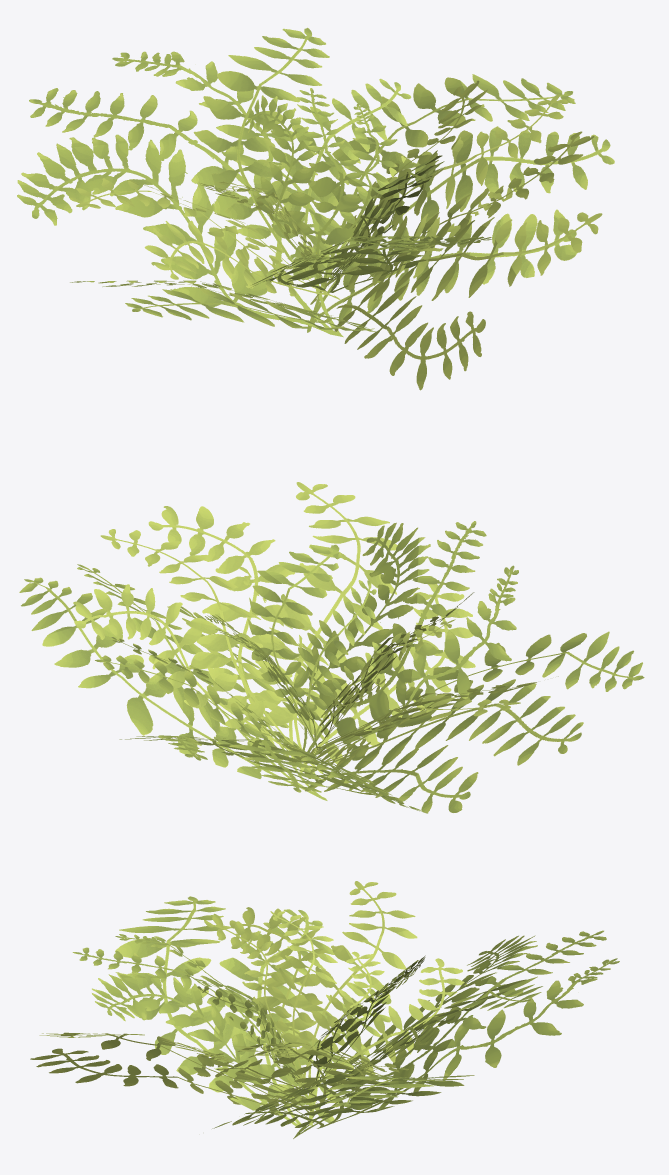
Rendered from oldBushCleanUp.fbx.
3 views of the same model, one above another, from view 1: azimuth 30°, elevation 25°; view 2: azimuth 150°, elevation 25°; view 3: azimuth 270°, elevation 25° (orthographic). The views are drawn at different scales.
Parts seen in each view (by area): view 1: Young Shrub; view 2: Young Shrub; view 3: Young Shrub.
Part boxes in pixels (<box>): Young Shrub: <box>17,27,614,390</box>; Young Shrub: <box>19,482,644,813</box>; Young Shrub: <box>30,881,619,1138</box>.
Bounding box in the file's own units: 373 × 134 × 416.
